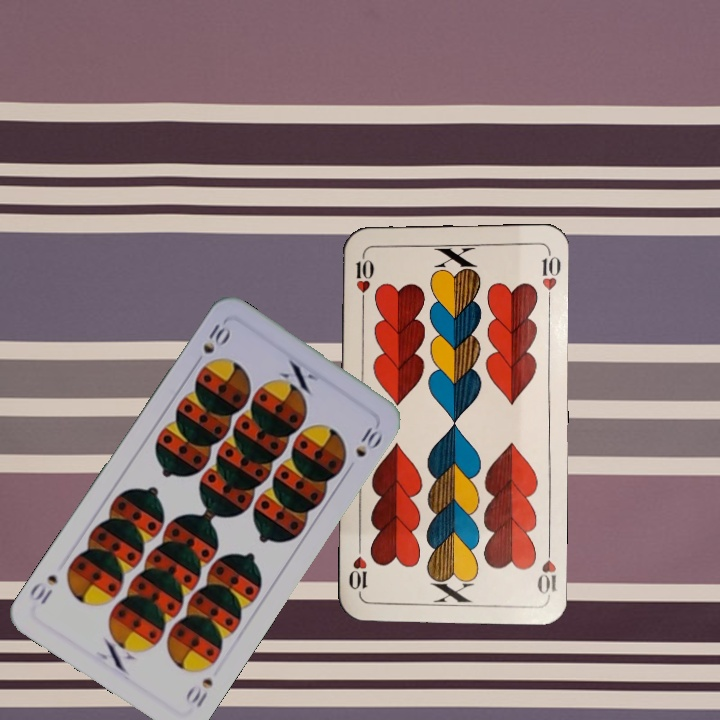H10: (533, 539, 558, 598), (352, 248, 375, 307)
S10: (189, 319, 234, 369), (181, 674, 216, 711)
